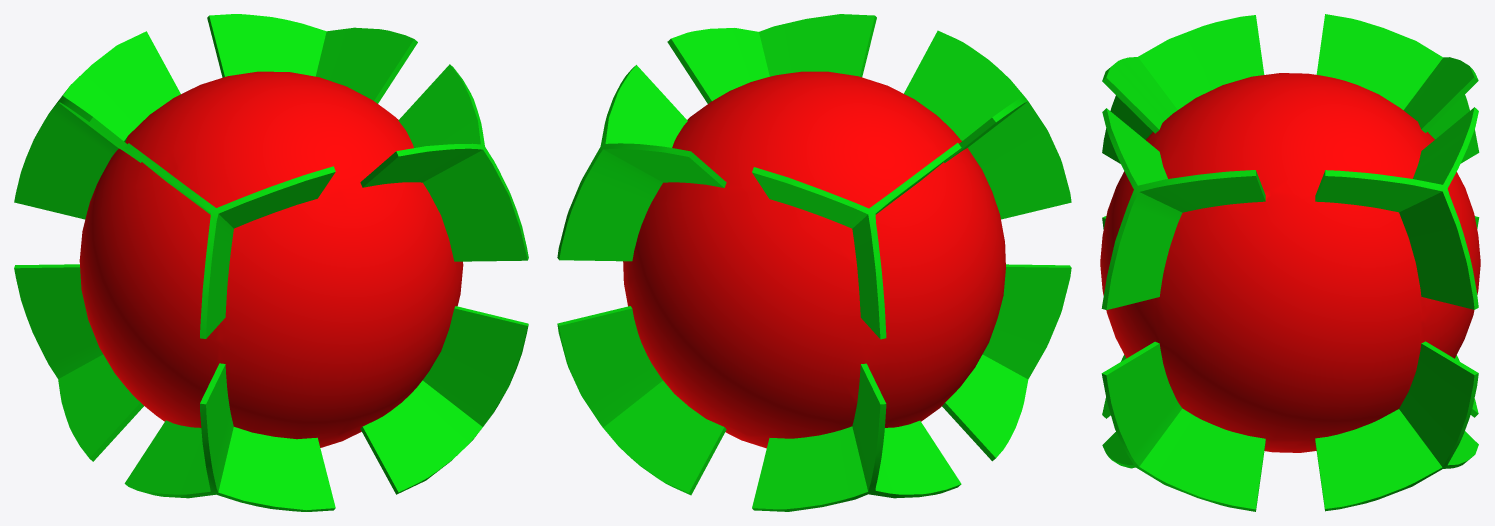
File: miniMapSphere.fbx
The picture shows the model from 3 angles, left to right: view 1: azimuth 30°, elevation 25°; view 2: azimuth 150°, elevation 25°; view 3: azimuth 270°, elevation 25°; orthographic projection.
Parts seen in each view (by area): view 1: Icosphere.003; view 2: Icosphere.003; view 3: Icosphere.003.
Boxes of the visible parts, box(x1,y1,x2,y2) form: Icosphere.003: box(14, 14, 528, 511); Icosphere.003: box(557, 14, 1071, 511); Icosphere.003: box(1100, 14, 1480, 511).
Size of the model in its own units: 200 by 200 by 200.
